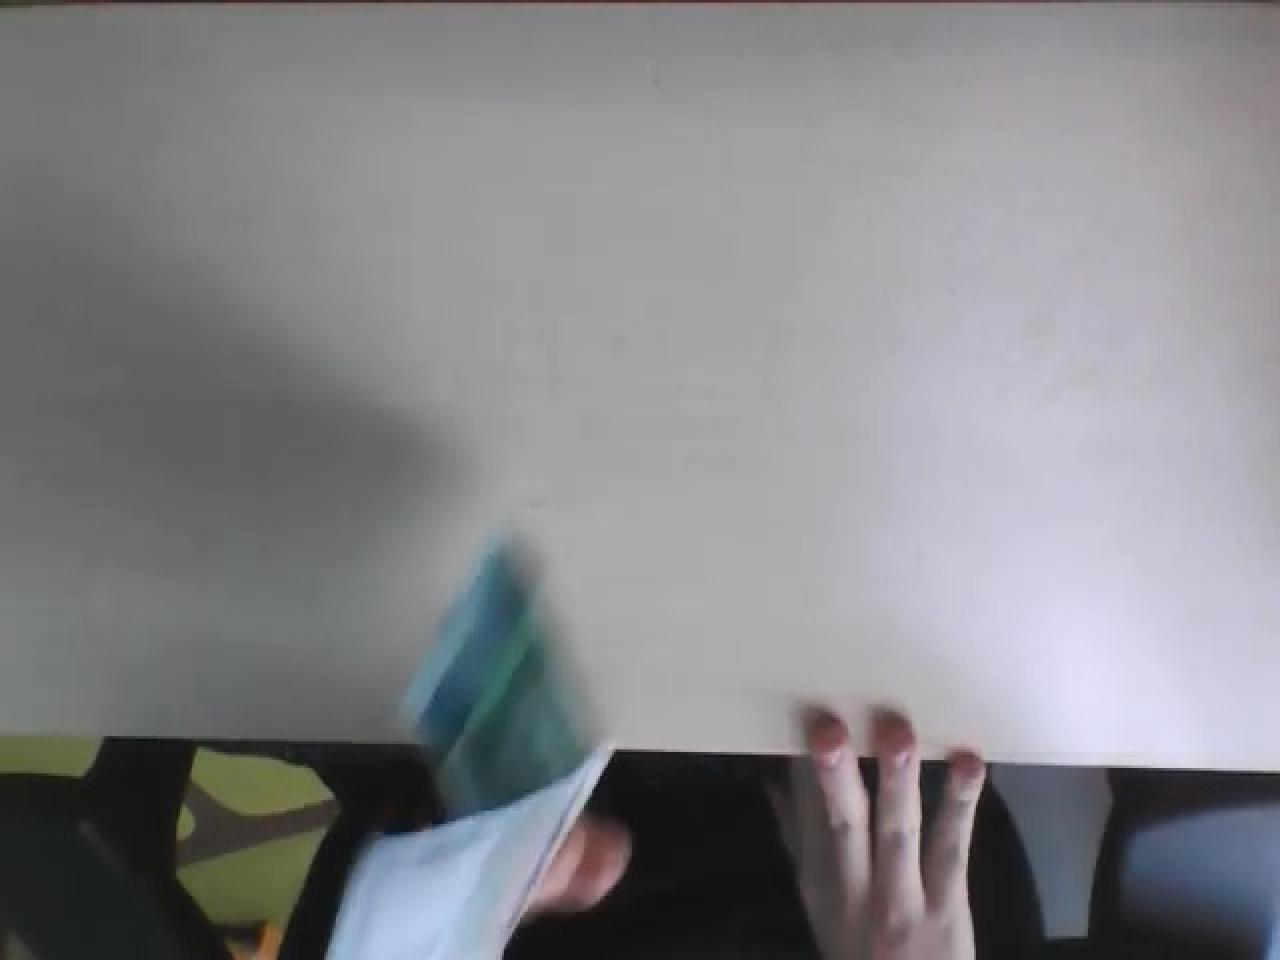100leva: (4, 8, 1278, 787)
